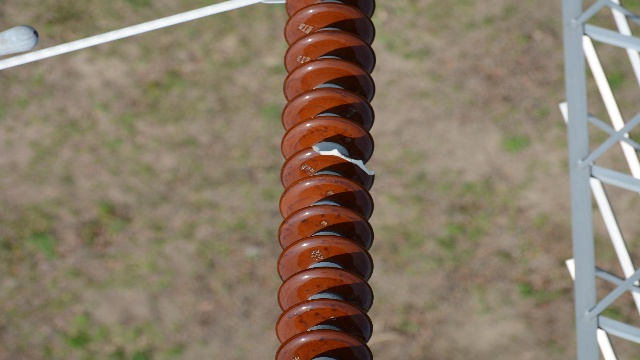broken_local: (311, 143, 378, 177)
insulator_unspecified: (275, 0, 376, 358)
